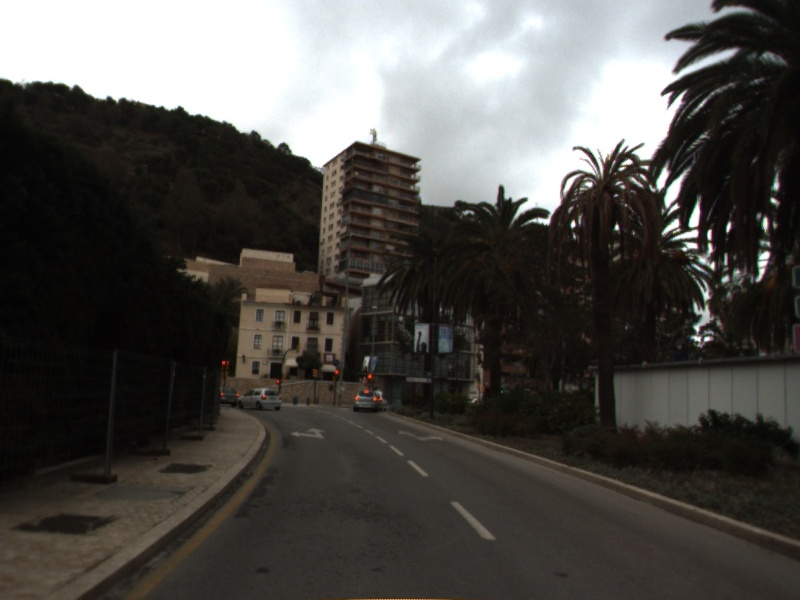STRAIGHT_LEFT: (288, 425, 330, 441)
STRAIGHT_RIGHT: (395, 427, 447, 444)
